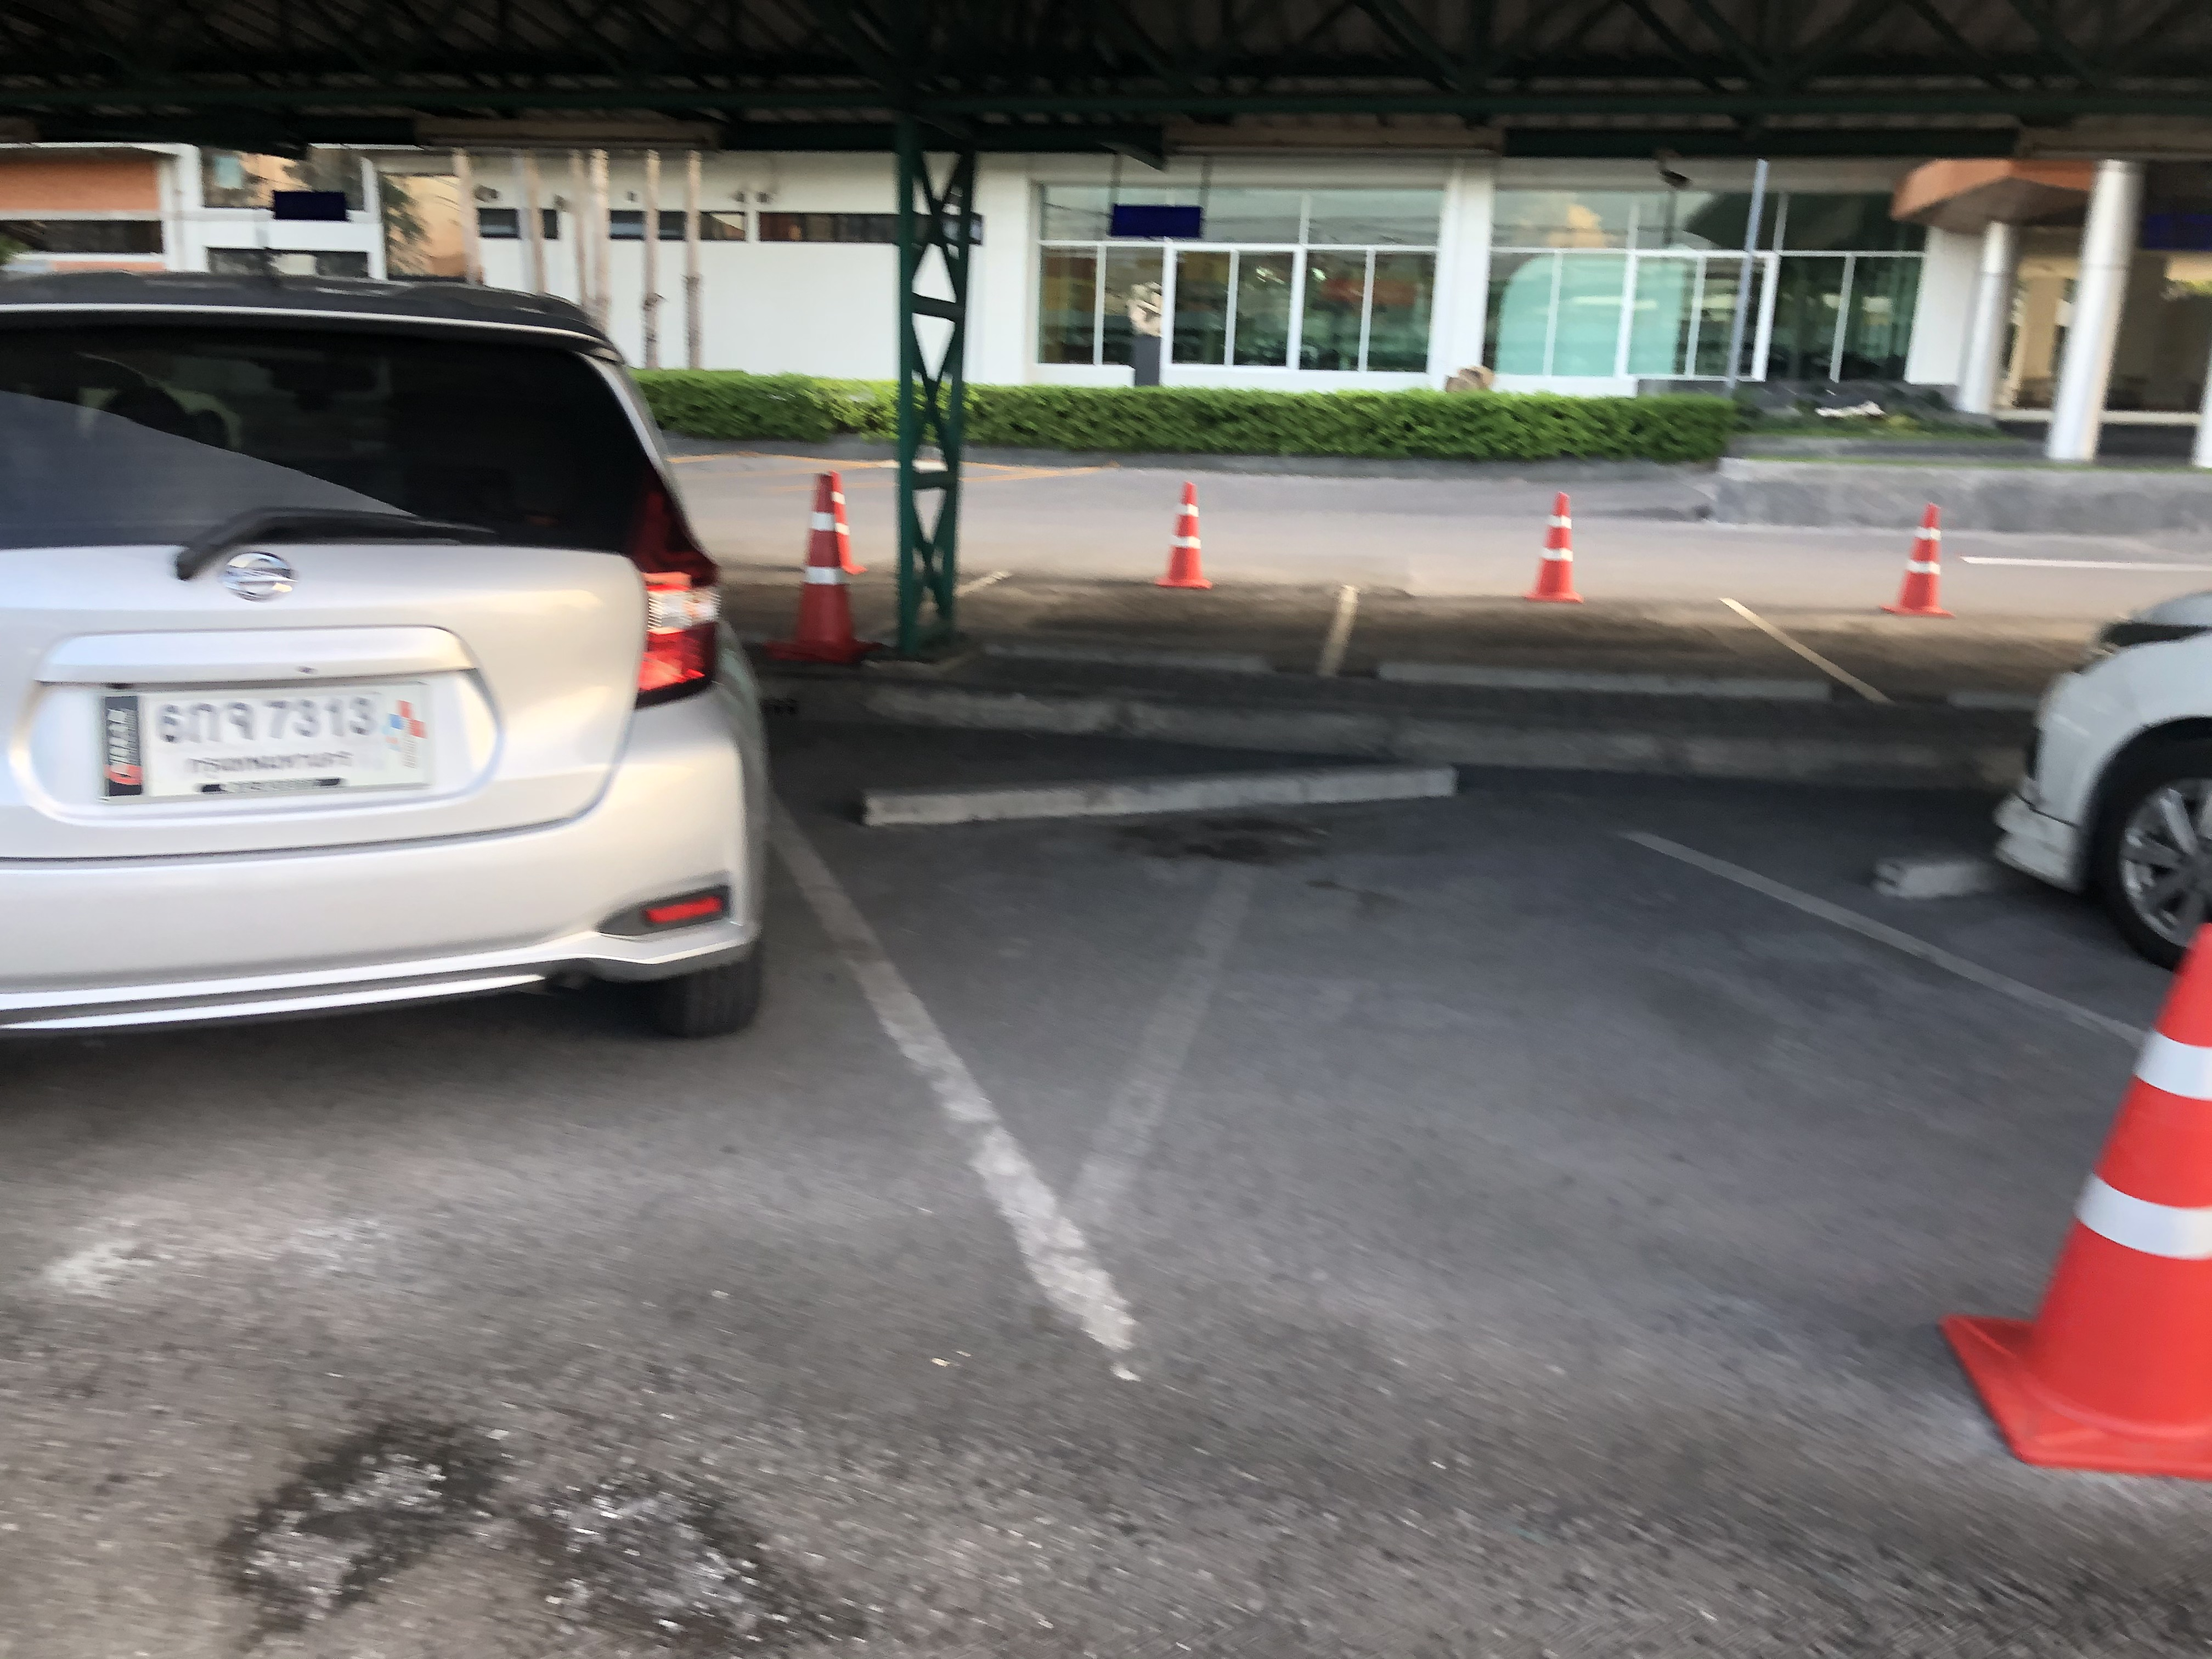in: (155, 695, 383, 784)
out: (101, 683, 444, 805)
